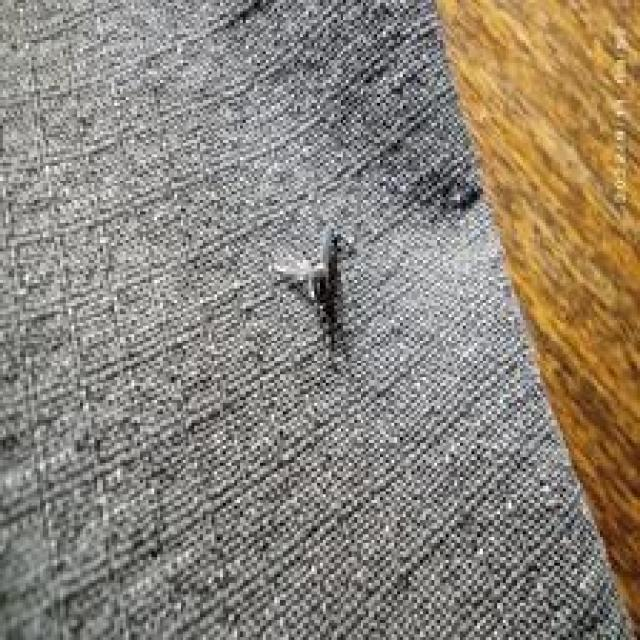Aedes albopictus: (269, 226, 357, 354)
